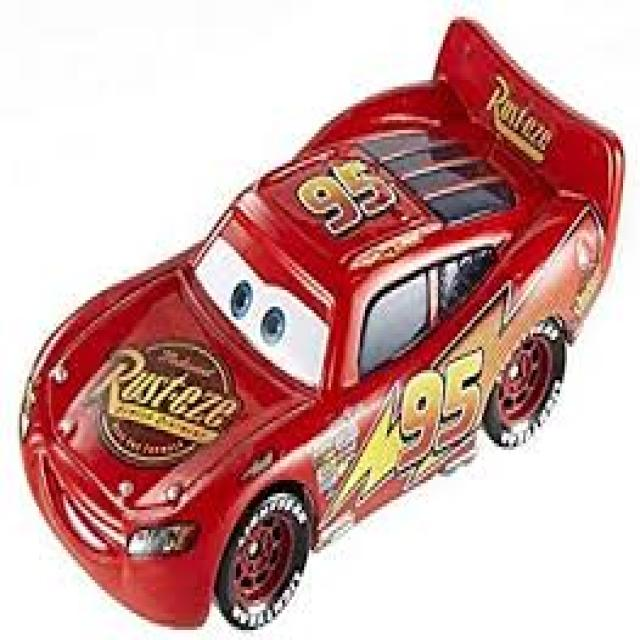Car: (17, 13, 625, 630)
